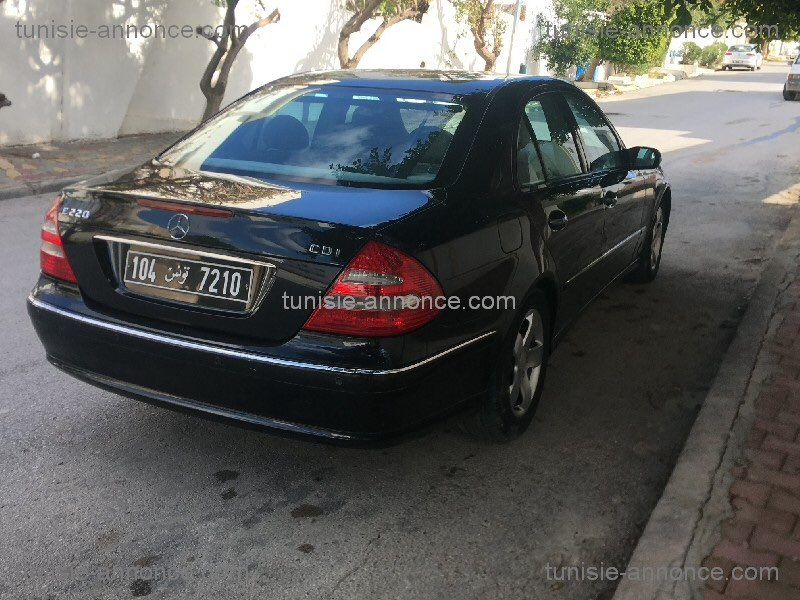LP: (122, 249, 254, 302)
